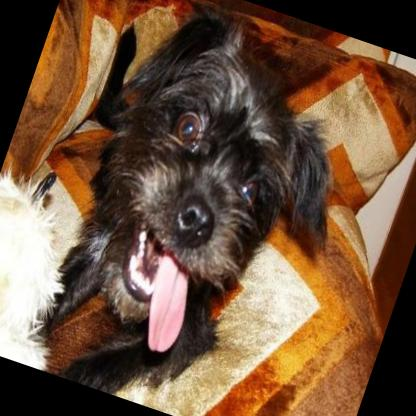affenpinscher: (22, 0, 387, 416)
